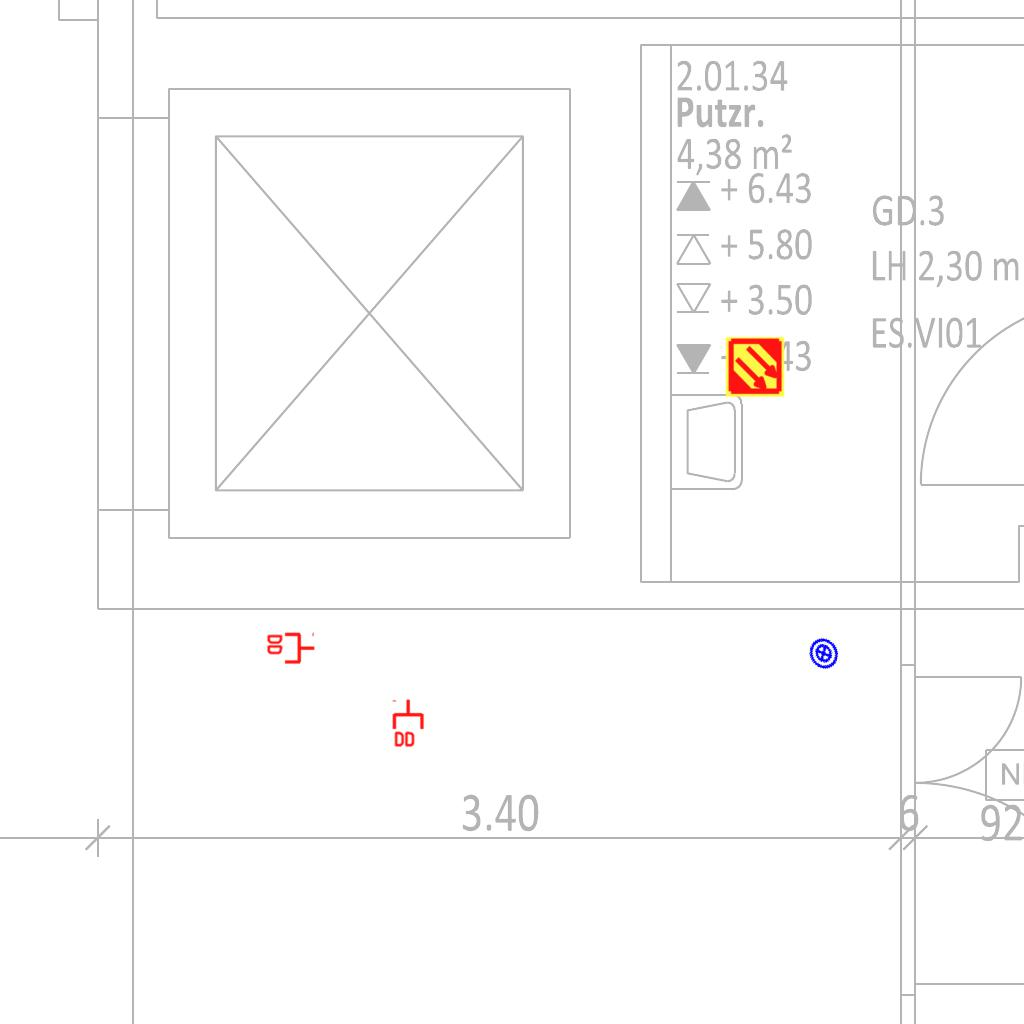ASR_Ansaugrauchmelder: (724, 336, 786, 398)
Datenanschluss_zweifach: (392, 698, 426, 749), (265, 632, 316, 666)
Taster_beleuchtet: (801, 631, 846, 676)
